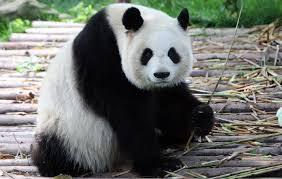panda: (28, 5, 214, 175)
